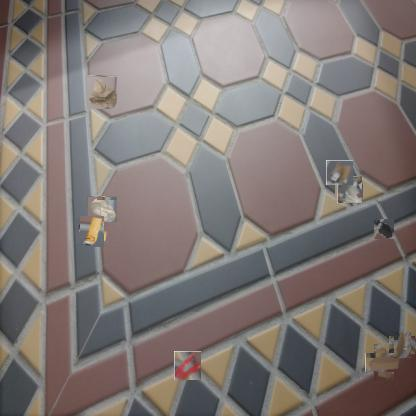dirty: (86, 76, 118, 110), (370, 348, 398, 377), (78, 217, 106, 245), (87, 196, 117, 222), (336, 176, 363, 203), (326, 160, 353, 185), (392, 334, 414, 356)
liquid: (174, 352, 202, 379), (374, 219, 394, 239)
